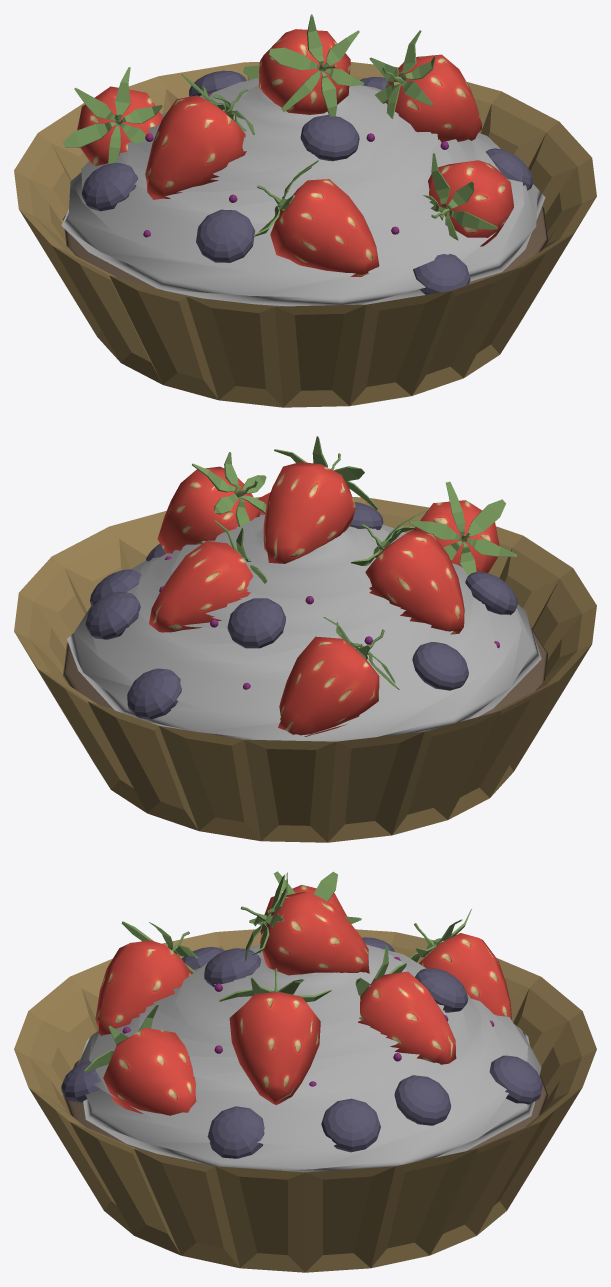
Rendered from Tart0.fbx.
3 views of the same model, one above another, from view 1: azimuth 30°, elevation 25°; view 2: azimuth 150°, elevation 25°; view 3: azimuth 270°, elevation 25° (orthographic).
Parts seen in each view (by area): view 1: bread1, cream1, Strawberrys, blueberrys, bread; view 2: bread1, cream1, Strawberrys, blueberrys, bread; view 3: bread1, cream1, Strawberrys, blueberrys, bread.
Boxes of the visible parts, x1,y1,x2,y2 form: bread1: (14,62,596,407); cream1: (61,78,545,306); Strawberrys: (63,14,513,276); blueberrys: (81,70,532,294); bread: (63,206,547,306); bread1: (14,497,596,842); cream1: (67,514,541,741); Strawberrys: (149,436,516,736); blueberrys: (85,502,517,719); bread: (63,628,547,716); bread1: (14,929,596,1272); cream1: (78,944,541,1172); Strawberrys: (84,871,511,1115); blueberrys: (61,937,542,1158); bread: (63,1059,547,1153).
Size of the model in its own units: 2.84 by 1.66 by 2.84.
